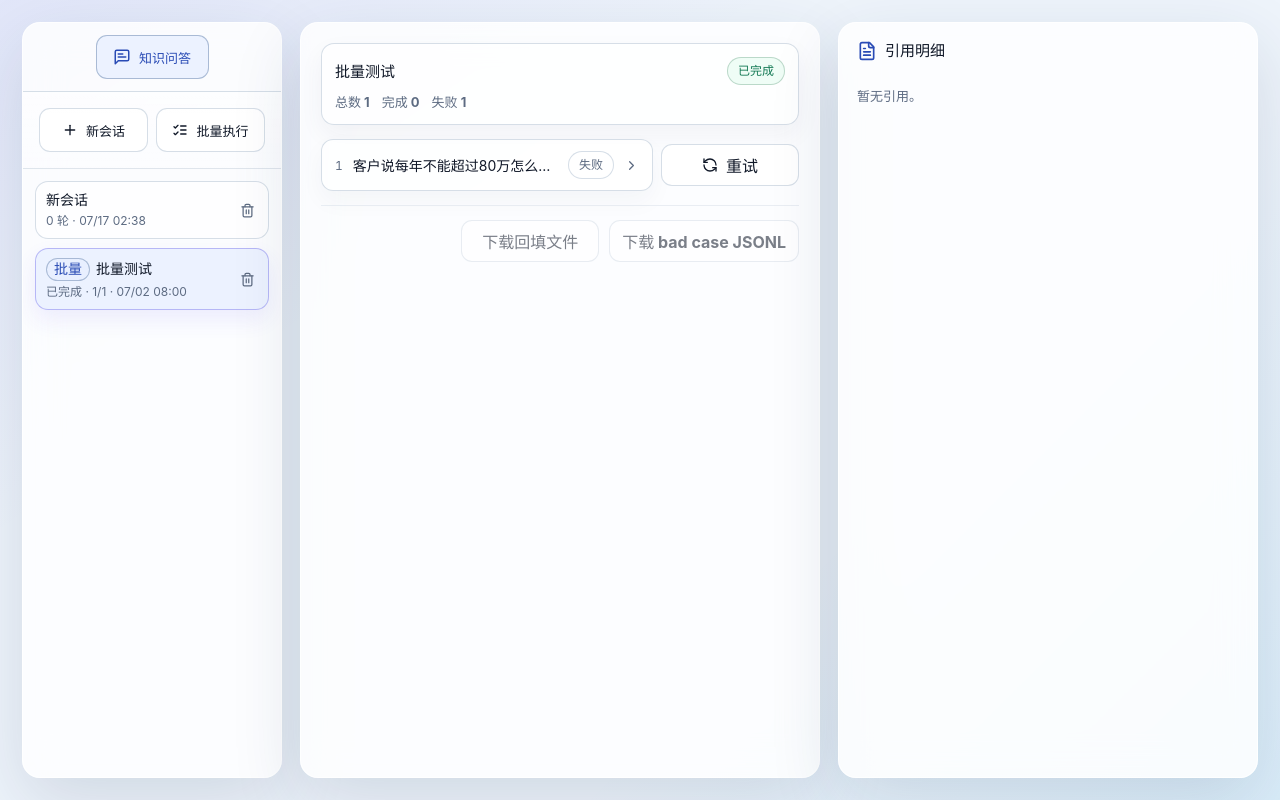
Scenario: 失败行展示错误并支持重试
Expected: the text "失败" is shown, x1=568 y1=151 x2=614 y2=179
Click the button "1 客户说每年不能超过80万怎么办？ 失败" at (487, 165), box x1=321 y1=139 x2=653 y2=191
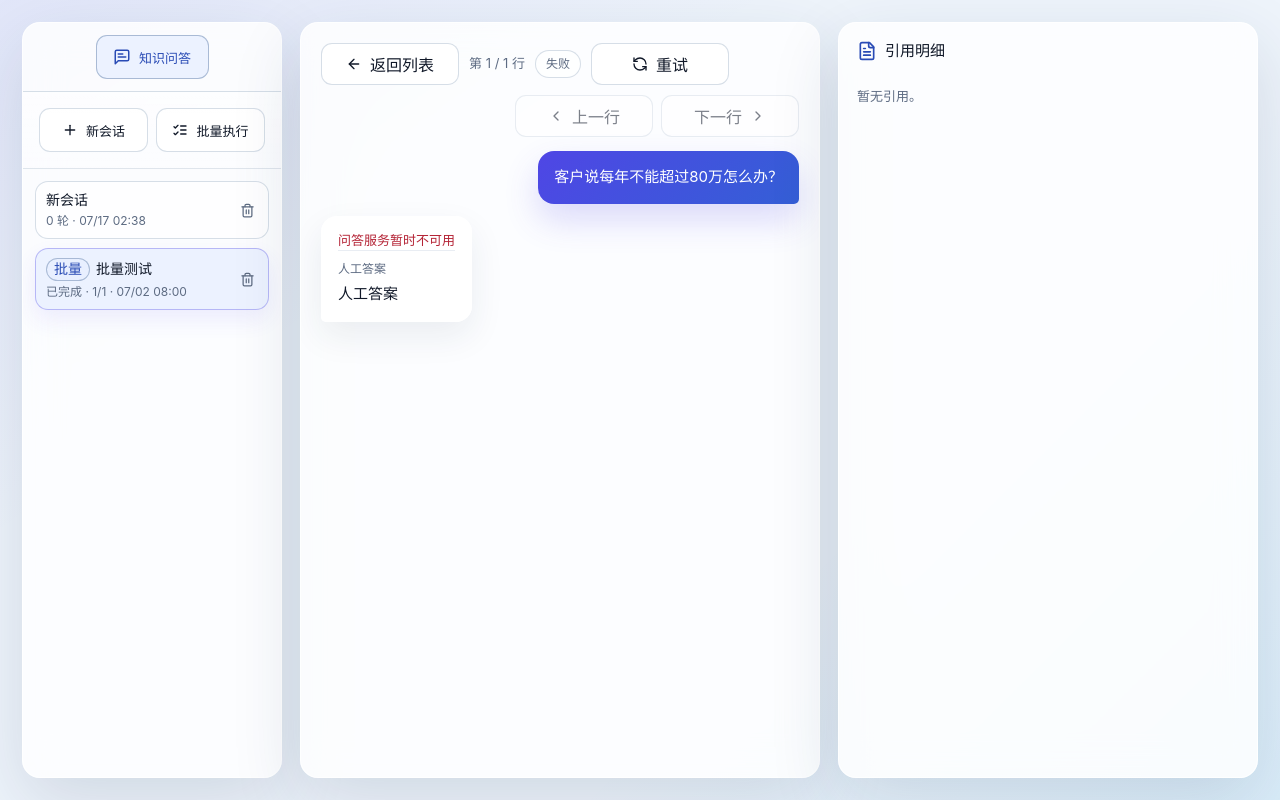
Now the text "问答服务暂时不可用" is shown, box x1=338 y1=231 x2=455 y2=250
Click the button "重试" at (660, 64), box x1=591 y1=43 x2=729 y2=85
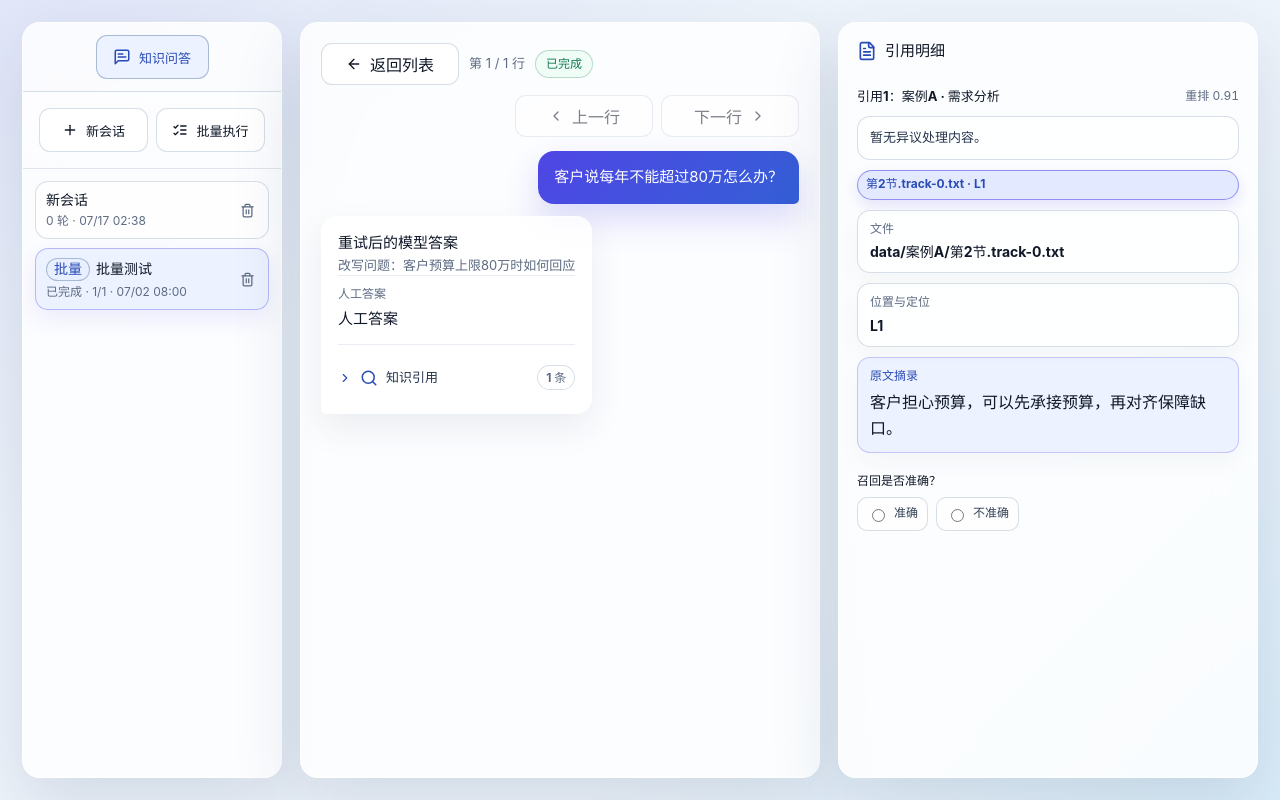
Now the text "重试后的模型答案" is shown, box x1=338 y1=233 x2=458 y2=252
